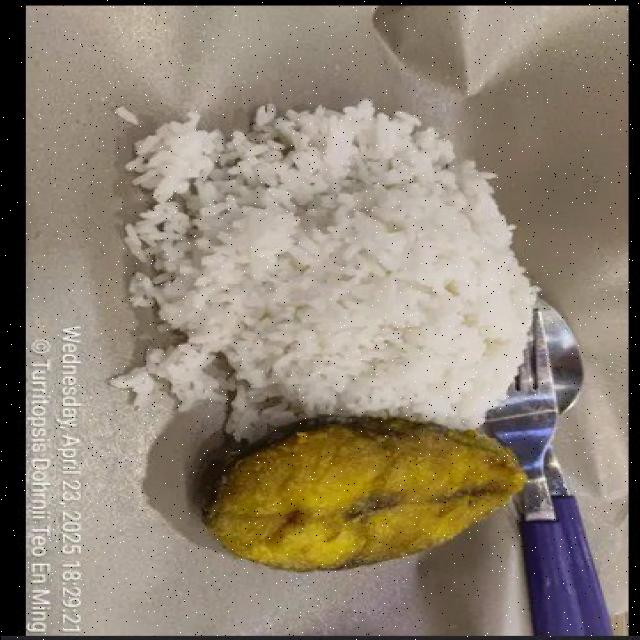Fish: (206, 418, 525, 568)
Rice: (113, 100, 535, 439)
